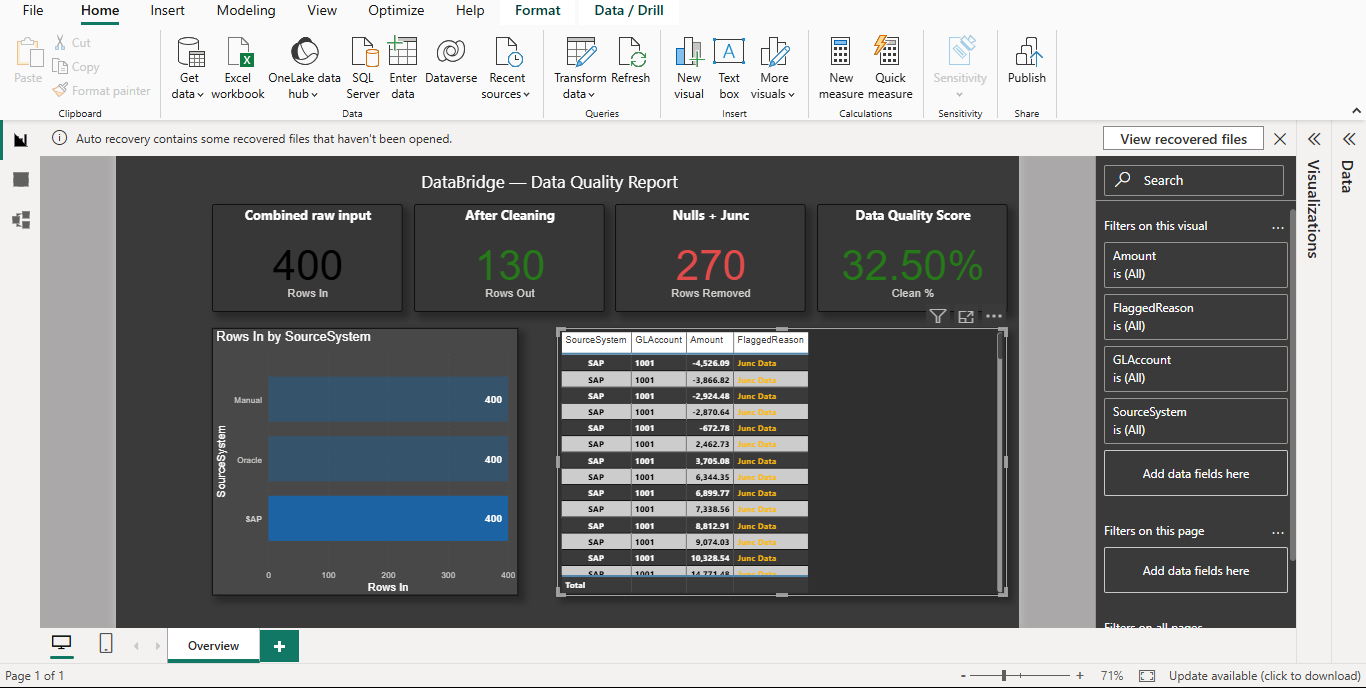

This screenshot's page, from the dashboard's own definition file:
{"tool":"powerbi","page":{"name":"Overview","canvas":[1280,720],"ordinal":0},"visuals":[{"type":"card","title":"Data Quality Score","fields":{"Values":["CombinedGL.Clean %"]},"box":[993.1,119.1,270.1,152.7],"z":0},{"type":"barChart","fields":{"Category":["CombinedGL.SourceSystem"],"Y":["CombinedGL.Rows In"]},"box":[135.9,295.3,434.5,379.1],"z":1000},{"type":"textbox","box":[0,0,1177.7,110.7],"z":2000},{"type":"card","title":"Nulls + Junc","fields":{"Values":["CombinedGL.Rows Removed"]},"box":[707.9,119.1,270.1,152.7],"z":3000},{"type":"card","title":"After Cleaning","fields":{"Values":["CombinedGL.Rows Out"]},"box":[422.8,119.1,270.1,152.7],"z":4000},{"type":"card","title":"Combined raw input","fields":{"Values":["CombinedGL.Rows In"]},"box":[135.9,119.1,270.1,152.7],"z":5000},{"type":"tableEx","fields":{"Values":["CombinedGL.SourceSystem","CombinedGL.GLAccount","CombinedGL.Amount","CombinedGL.FlaggedRows"]},"box":[625.7,295.3,637.5,379.1],"z":6000},{"type":"textbox","box":[115.8,65.4,996.5,45.3],"z":7000}]}

Visuals, with their boxes on the page's 1280x720 design canvas (x1, y1, x2, y2). These are canvas units, not pixel positions in the 1366x688 screenshot, which may show the page scaled, cropped or inside an application window:
"Data Quality Score" card: x1=993, y1=119, x2=1263, y2=272
barChart - CombinedGL.SourceSystem x CombinedGL.Rows In: x1=136, y1=295, x2=570, y2=674
textbox: x1=0, y1=0, x2=1178, y2=111
"Nulls + Junc" card: x1=708, y1=119, x2=978, y2=272
"After Cleaning" card: x1=423, y1=119, x2=693, y2=272
"Combined raw input" card: x1=136, y1=119, x2=406, y2=272
tableEx - CombinedGL.SourceSystem x CombinedGL.GLAccount: x1=626, y1=295, x2=1263, y2=674
textbox: x1=116, y1=65, x2=1112, y2=111
